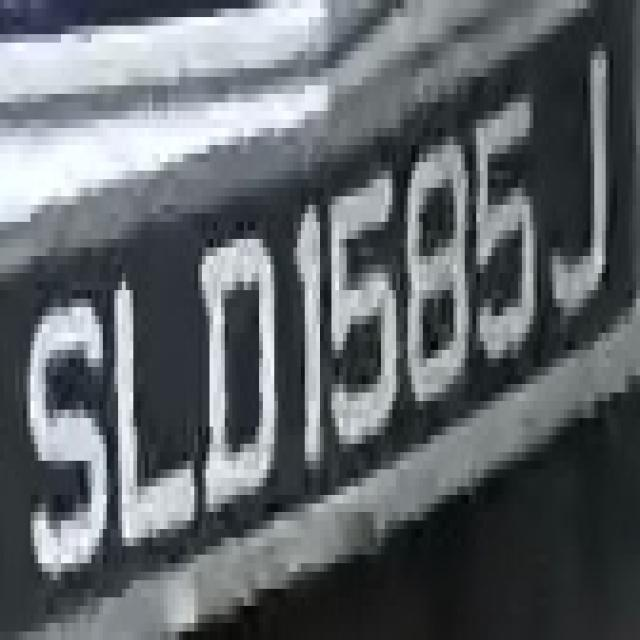1: (278, 188, 335, 503)
5: (324, 154, 396, 452), (469, 77, 541, 367)
8: (388, 120, 488, 410)
D: (190, 222, 282, 520)
J: (544, 34, 628, 307)
L: (106, 248, 206, 554)
S: (19, 282, 111, 580)
